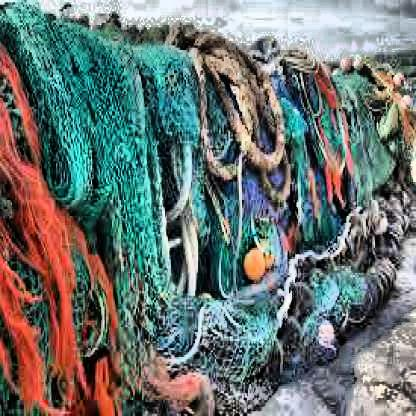Fishing wastes: (0, 73, 407, 367)
